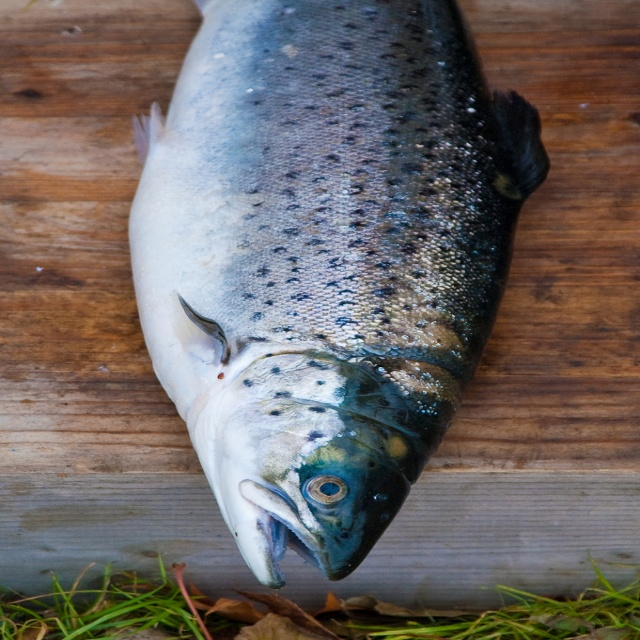Fish: (128, 0, 548, 588)
